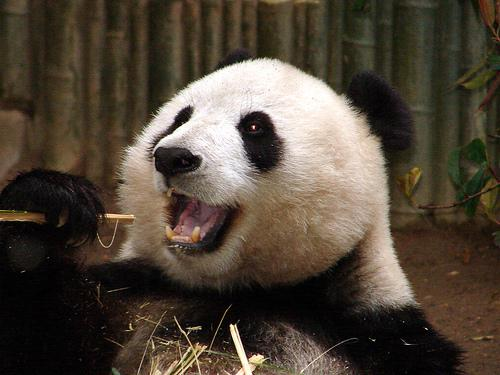panda: (0, 59, 461, 374)
